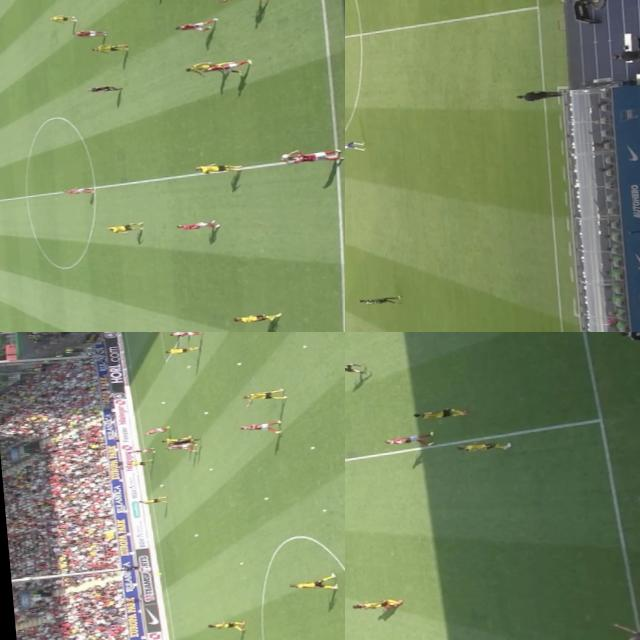ball: (274, 152, 290, 159), (158, 482, 166, 487), (192, 532, 198, 538), (261, 496, 268, 501), (234, 362, 242, 366), (208, 466, 214, 471), (302, 343, 308, 348), (237, 560, 244, 564), (202, 410, 208, 414), (158, 401, 166, 404), (184, 364, 190, 368), (321, 508, 326, 512), (308, 446, 314, 449)
player: (382, 430, 441, 448), (277, 148, 342, 164), (163, 16, 220, 34), (454, 439, 511, 456), (180, 60, 235, 76), (242, 386, 286, 406), (236, 418, 288, 434), (409, 407, 464, 422), (224, 310, 282, 324), (355, 291, 402, 307), (200, 56, 250, 70), (172, 219, 218, 233), (193, 160, 240, 173), (349, 600, 392, 612), (161, 431, 196, 444), (353, 598, 398, 608), (164, 441, 201, 453), (64, 27, 104, 38), (103, 222, 142, 233), (55, 186, 95, 196), (88, 42, 124, 52), (142, 424, 172, 436), (164, 344, 200, 354), (40, 14, 76, 23), (137, 494, 169, 504), (345, 138, 366, 153), (124, 446, 155, 454), (128, 458, 154, 466), (168, 332, 202, 336), (214, 0, 244, 4)
